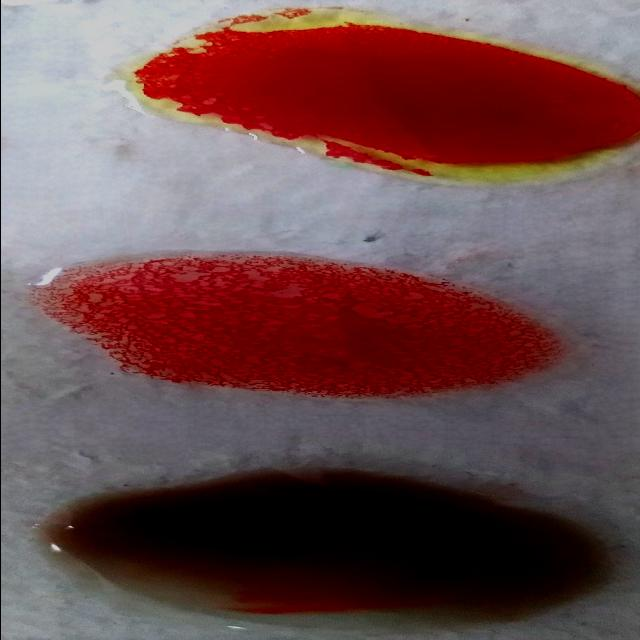B: (105, 21, 640, 183)
D: (26, 257, 570, 394)
